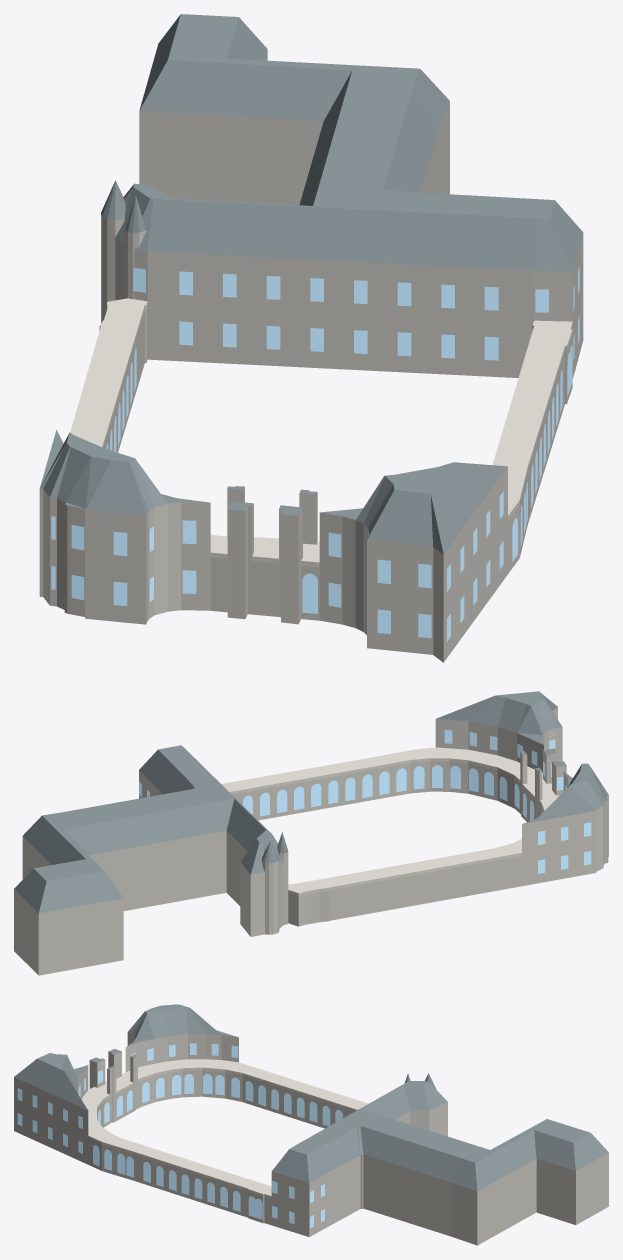
3 views of the same model, one above another, from view 1: azimuth 30°, elevation 25°; view 2: azimuth 150°, elevation 25°; view 3: azimuth 270°, elevation 25° (orthographic). The views are drawn at different scales.
Parts seen in each view (by area): view 1: stone, roof, window, trim; view 2: stone, roof, trim, window; view 3: stone, roof, window, trim.
Boxes of the visible parts, bbox=[...] form: stone: bbox=[39, 50, 583, 662]; roof: bbox=[39, 14, 583, 554]; window: bbox=[51, 266, 579, 641]; trim: bbox=[70, 298, 572, 567]; stone: bbox=[14, 707, 608, 975]; roof: bbox=[14, 691, 608, 913]; trim: bbox=[221, 747, 559, 895]; window: bbox=[139, 730, 591, 873]; stone: bbox=[14, 1032, 608, 1245]; roof: bbox=[14, 1004, 608, 1191]; window: bbox=[17, 1043, 350, 1228]; trim: bbox=[81, 1059, 368, 1198].
Bounding box in the file's own units: 88.79 × 19 × 130.
